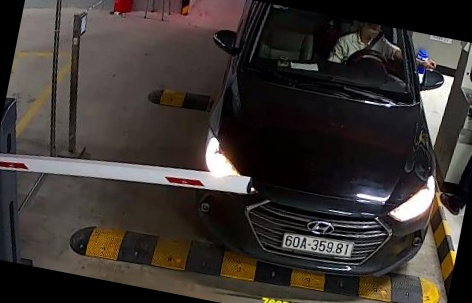plate: (276, 231, 354, 259)
